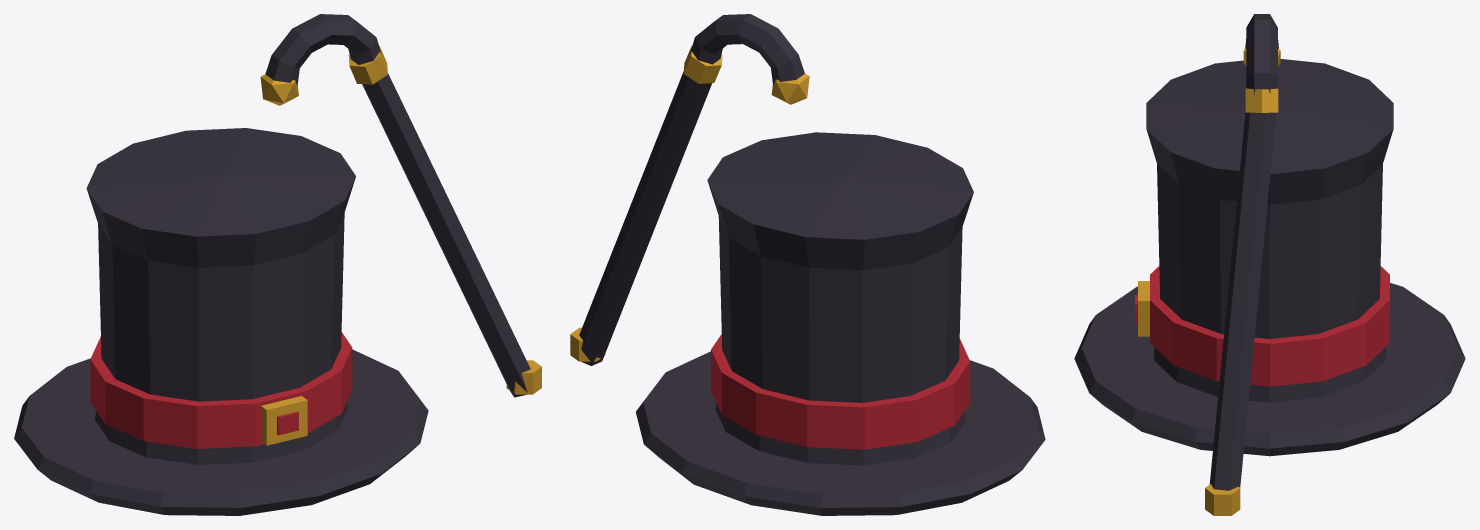
File: habitat_prop_truffle.fbx
3 renders of one model, left to right at view 1: azimuth 30°, elevation 25°; view 2: azimuth 150°, elevation 25°; view 3: azimuth 270°, elevation 25°, orthographic.
Parts seen in each view (by area): view 1: habitat_prop_truffle; view 2: habitat_prop_truffle; view 3: habitat_prop_truffle.
Boxes of the visible parts, x1,y1,x2,y2 form: habitat_prop_truffle: (14,14,541,515); habitat_prop_truffle: (570,14,1045,515); habitat_prop_truffle: (1074,14,1465,515).
Bounding box in the file's own units: 1.4 × 1.14 × 0.9936.
